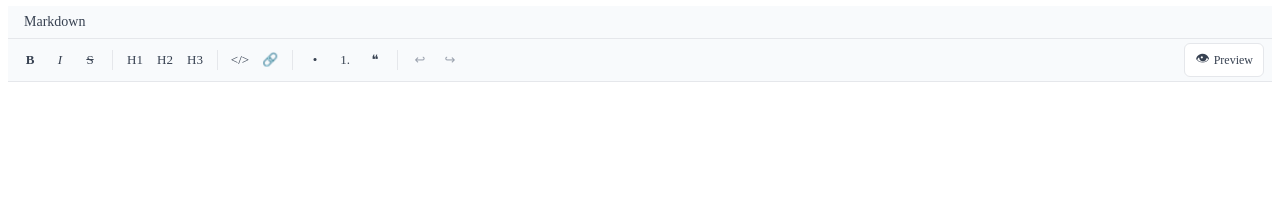
Test: MarkdownEditor › 表示モード切り替え › Previewボタンをクリックするとプレビューモードに切り替わる
Click the button with aria-label "プレビュー表示に切り替え".
click(1224, 60)  # box [1184,43,1264,77]
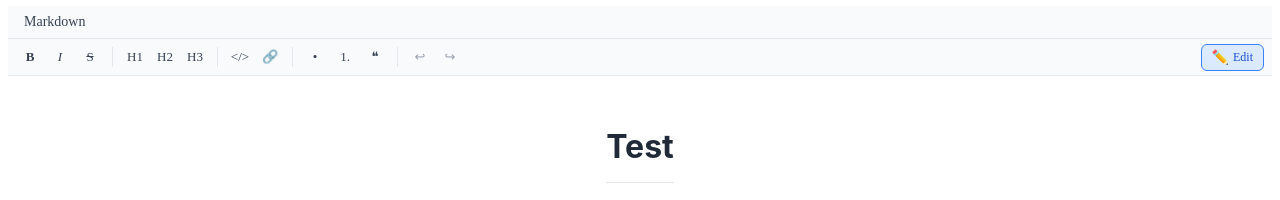
Check: the text "Edit" is shown, box [1233,50,1253,64]
